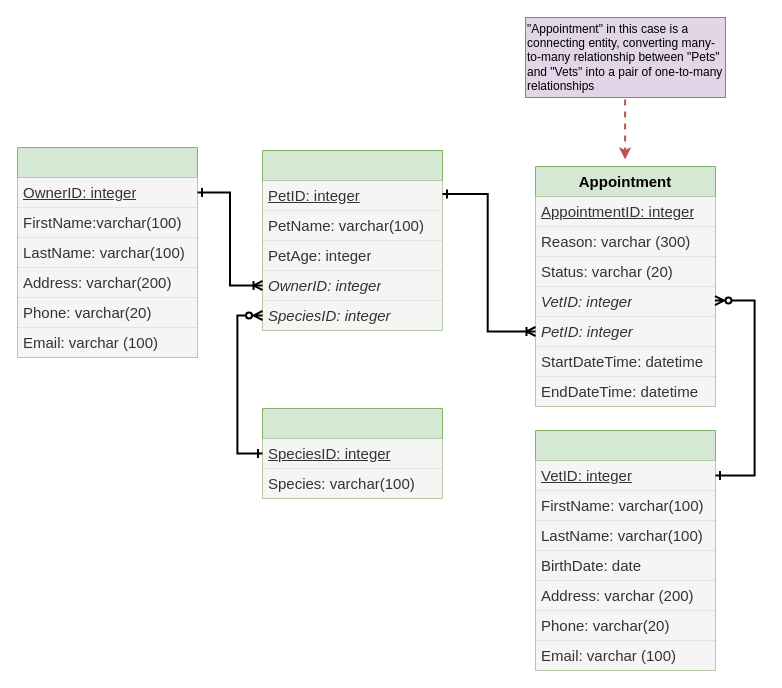
The diagram is 782 pixels wide and 688 high, and some of its shapes have lost their labels. The shapes that lost their labels are listed below. From the top down, each one's box as (x1, y1, x2, y2) in pixels, then its label:
(16, 146, 198, 358): Owners
(262, 150, 442, 330): Pets
(262, 408, 442, 498): Species_served
(534, 430, 716, 670): Vets
